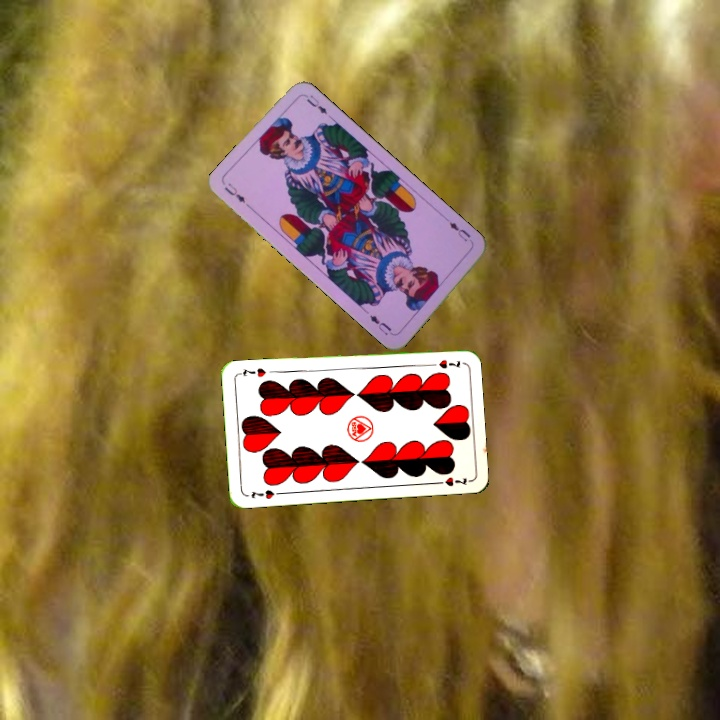EU: (445, 217, 473, 244), (220, 178, 248, 205)
H7: (247, 486, 284, 502), (424, 355, 463, 370)
